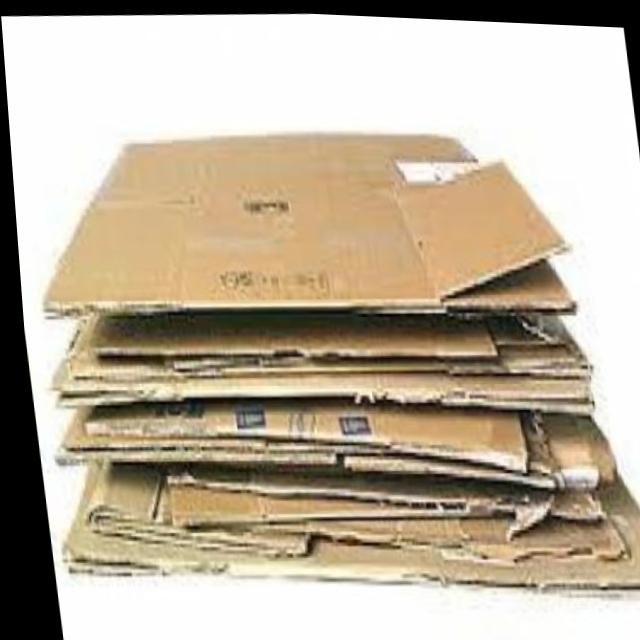box: (4, 62, 640, 631)
